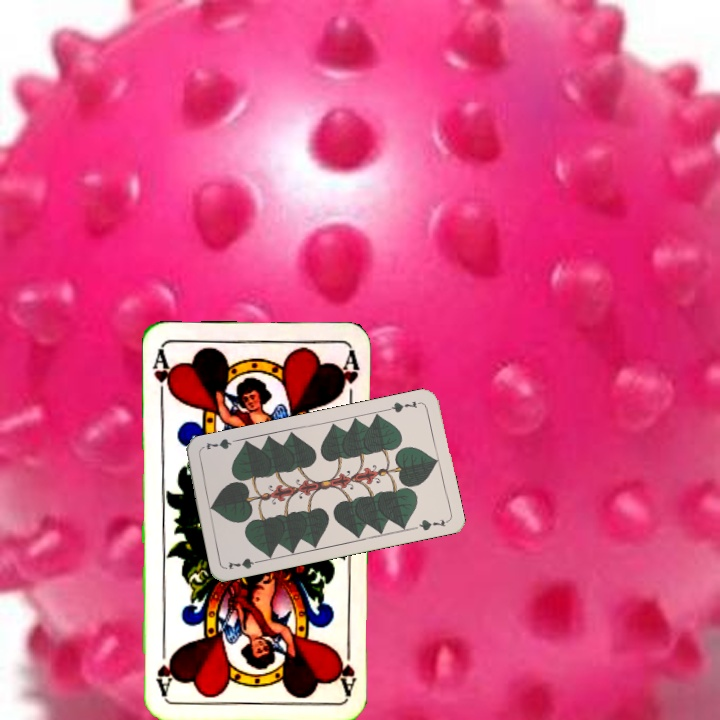G7: (224, 554, 265, 572), (384, 397, 424, 415)
HA: (149, 346, 176, 405), (334, 637, 359, 696)
